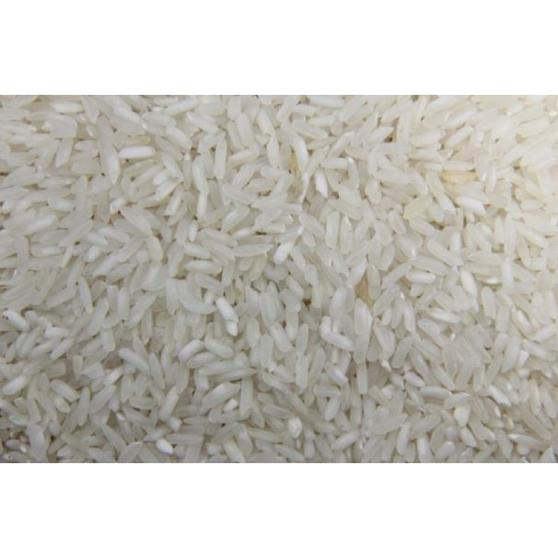rice: (32, 115, 527, 463)
